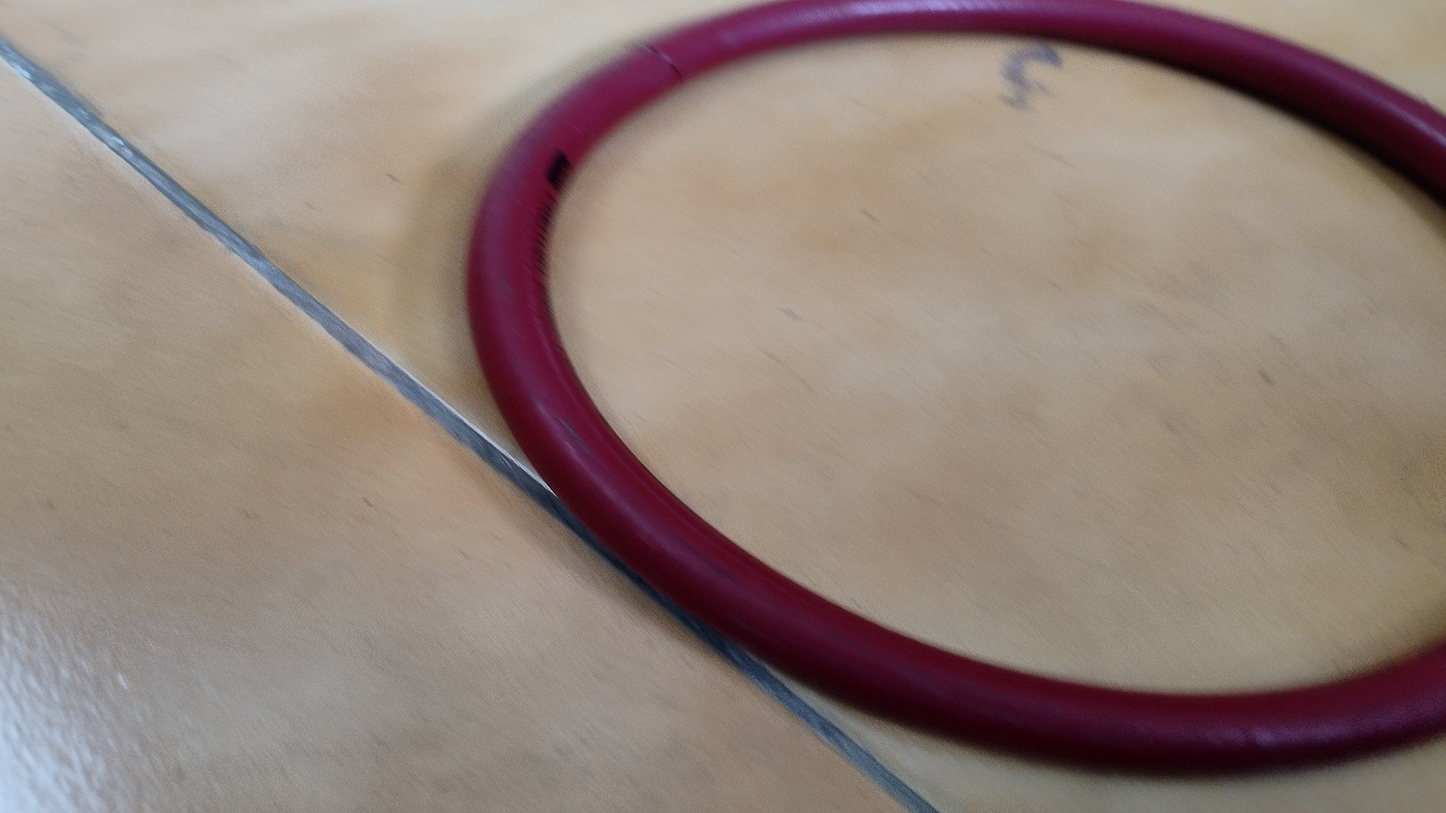Red ring: (464, 5, 1446, 778)
